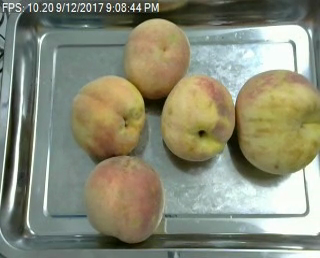Peach: (235, 68, 319, 176), (84, 155, 165, 243), (159, 69, 233, 164), (70, 74, 147, 157), (123, 18, 191, 96)
